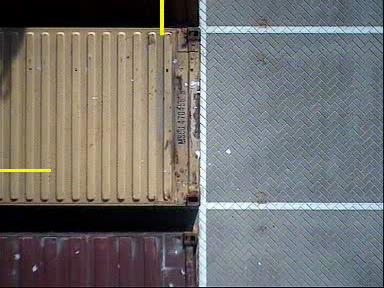groundmarker_2: (199, 22, 283, 117)
